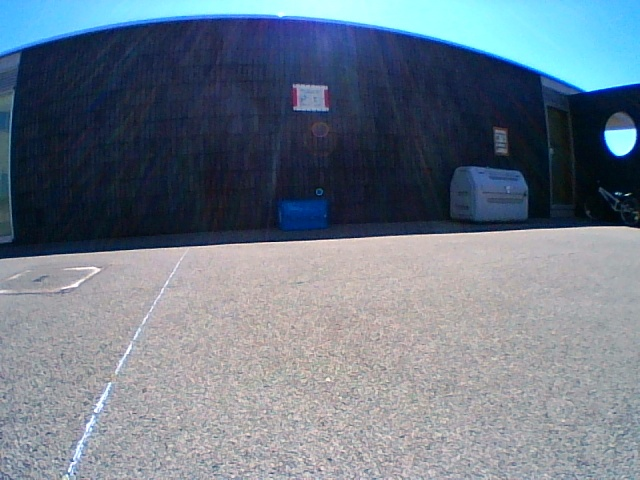blue_box: (279, 199, 326, 229)
